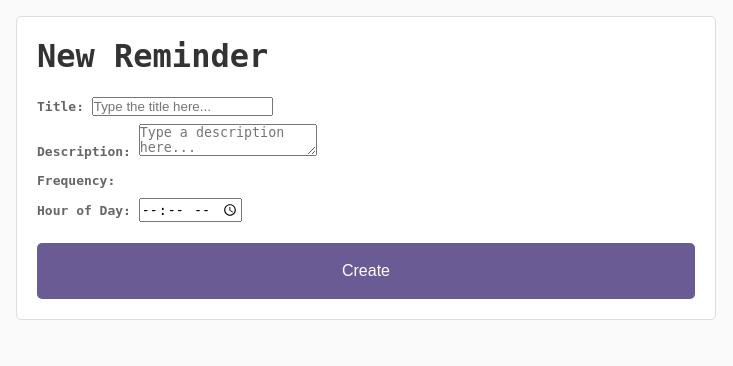
Test: new reminder › test button with empty inputs
Click the button "Create". click: (366, 270)
box: [37, 242, 695, 298]
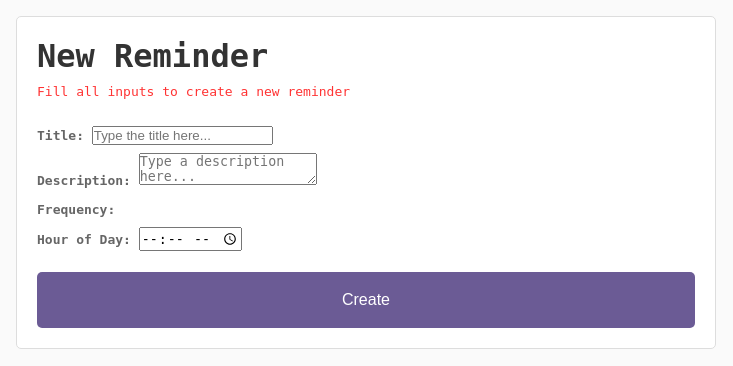
expect the text with test id "new-reminder-error-msg" reads "Fill all inputs to create a new reminder": met, box [37, 84, 350, 99]
